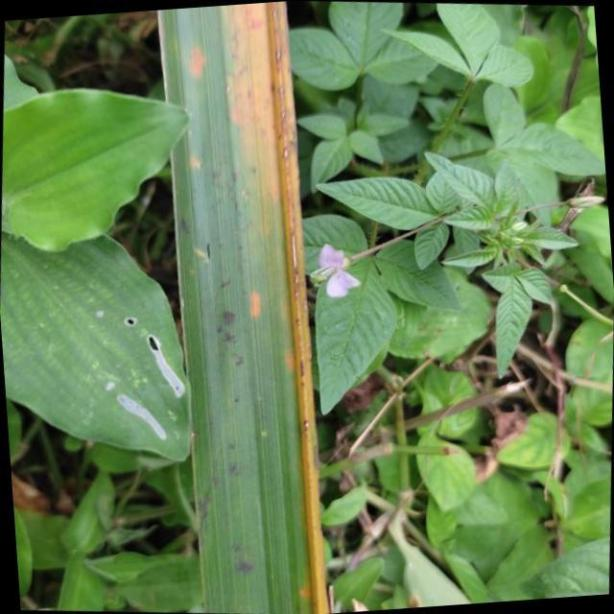Megnesium: (158, 0, 328, 614)
